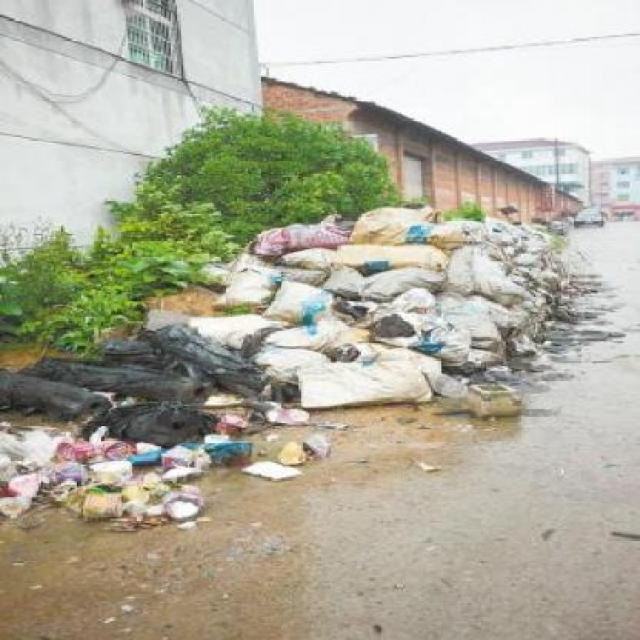garbage: (198, 212, 574, 410), (11, 317, 274, 524)
